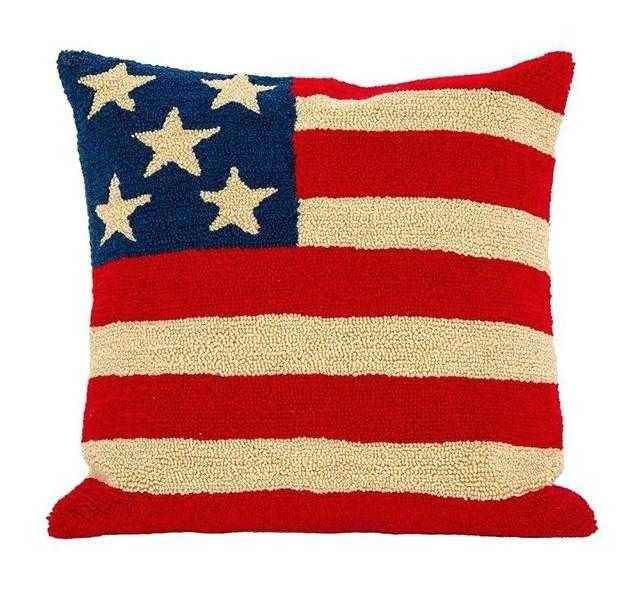pillow: (46, 45, 598, 539)
